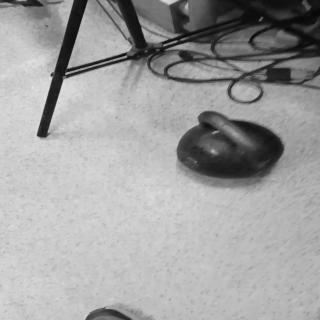kettlebell: (178, 111, 287, 181)
